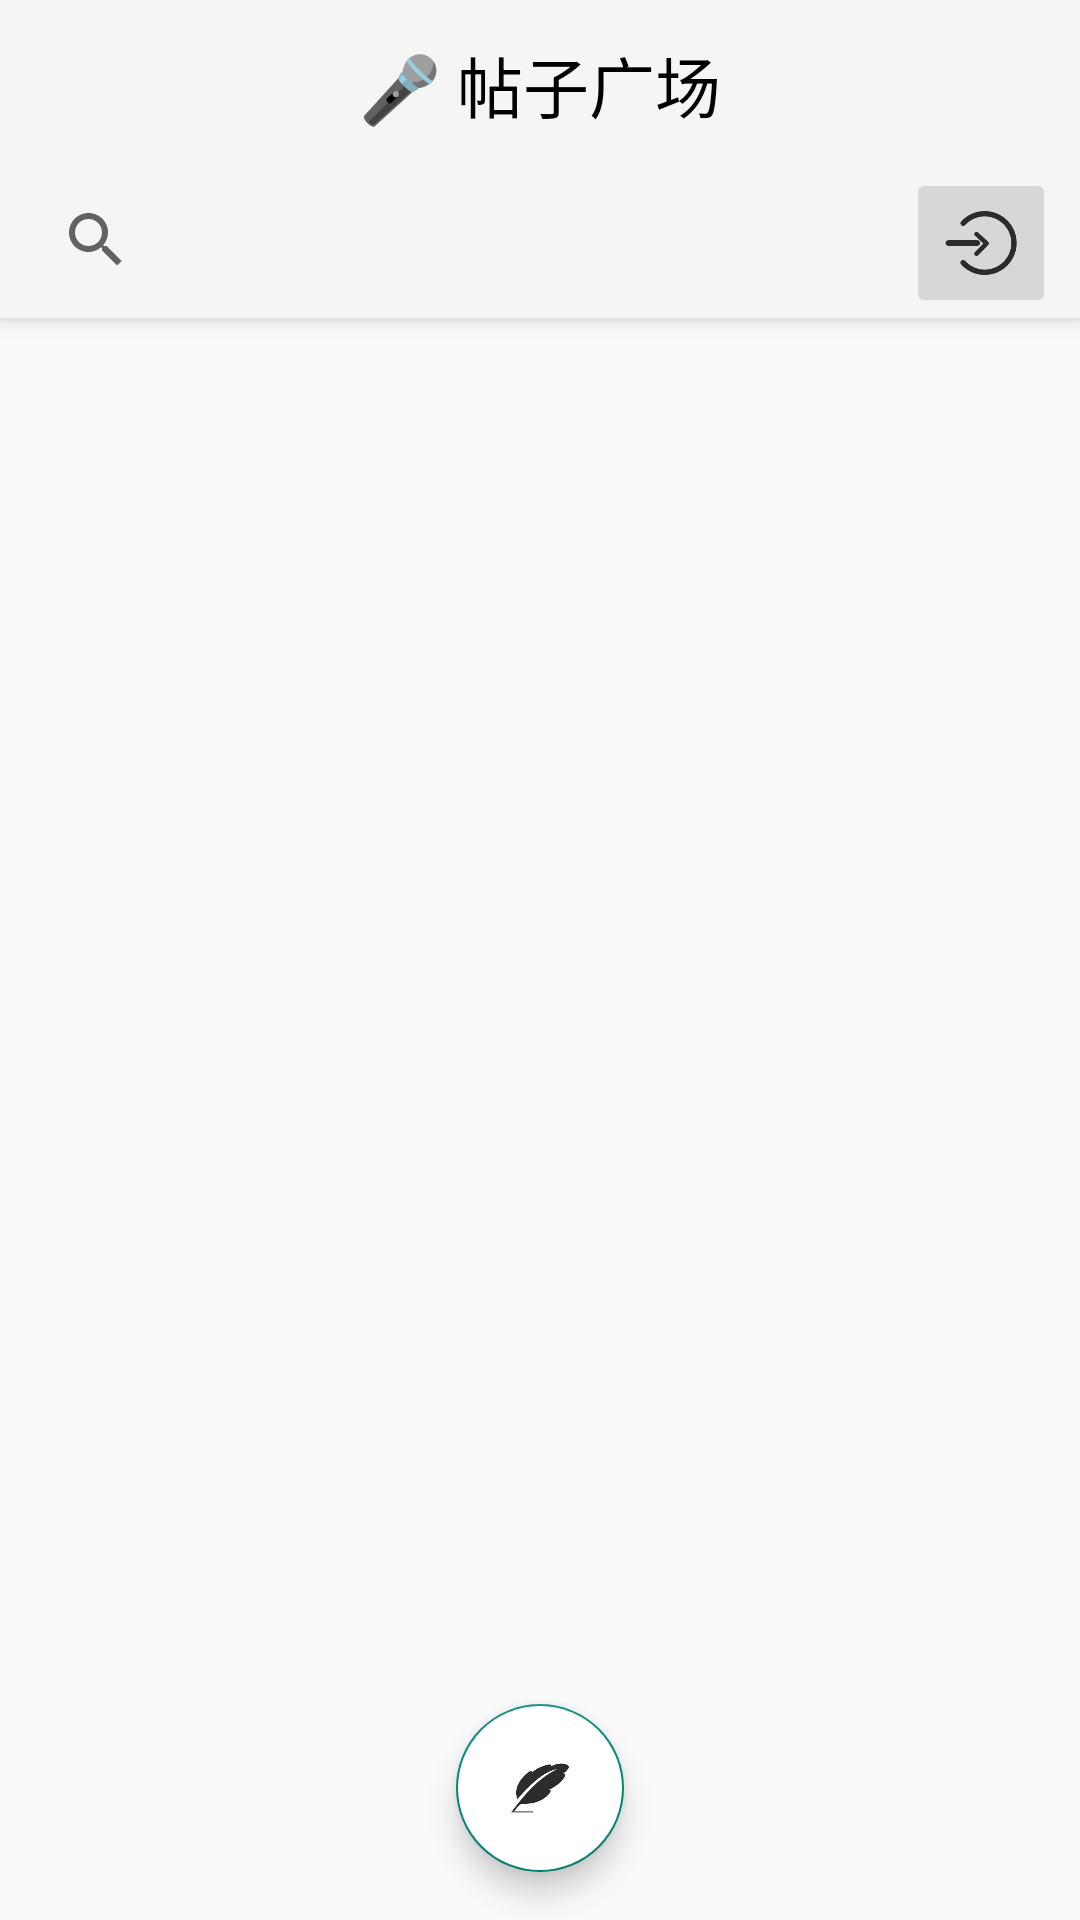

Point at icon controls on the screen. Image size 1080px×1920px, points as [x,y].
blog add: [540,1788]
